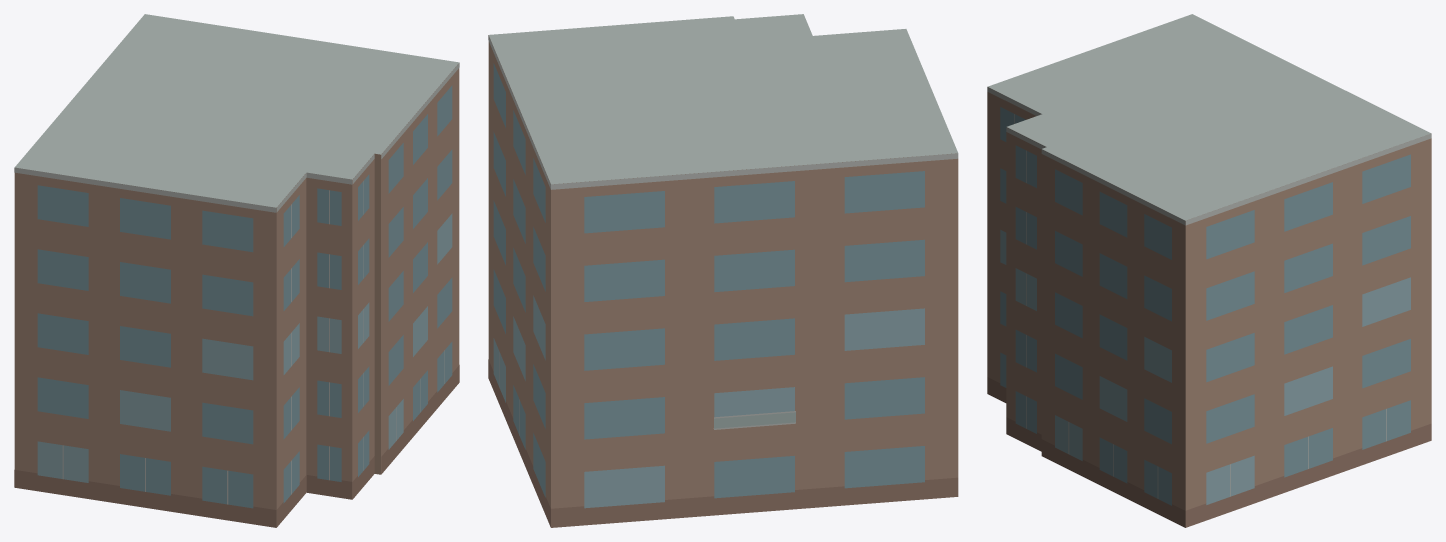
File: survey-upis-32666551.glb
The picture shows the model from 3 angles, left to right: view 1: azimuth 30°, elevation 25°; view 2: azimuth 150°, elevation 25°; view 3: azimuth 270°, elevation 25°; orthographic projection. The views are drawn at different scales.
Visible parts, largest first — view 1: survey-upis-32666551.tmp; view 2: survey-upis-32666551.tmp; view 3: survey-upis-32666551.tmp.
Part boxes in pixels (box(x1,y1,x2,y2)): survey-upis-32666551.tmp: box(14, 14, 459, 527); survey-upis-32666551.tmp: box(488, 14, 958, 527); survey-upis-32666551.tmp: box(987, 14, 1431, 527).
Bounding box in the file's own units: 22.01 × 15.25 × 19.99.
